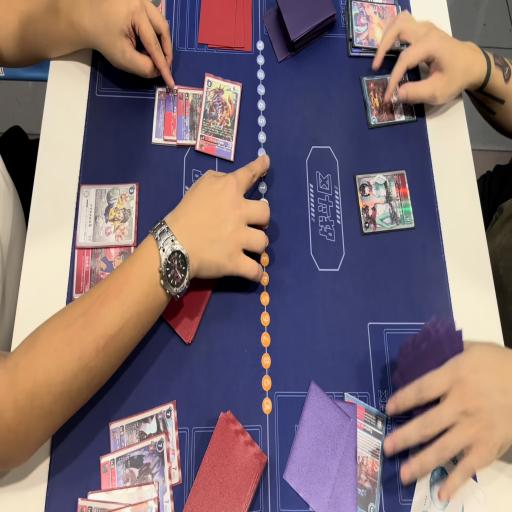card: (107, 399, 184, 487), (100, 428, 174, 512), (339, 388, 384, 512), (73, 180, 139, 252), (71, 240, 137, 312), (354, 166, 415, 238), (197, 74, 241, 170), (363, 65, 416, 135), (352, 0, 403, 55), (85, 481, 158, 512), (176, 86, 208, 147), (152, 81, 168, 150), (164, 84, 180, 146)
